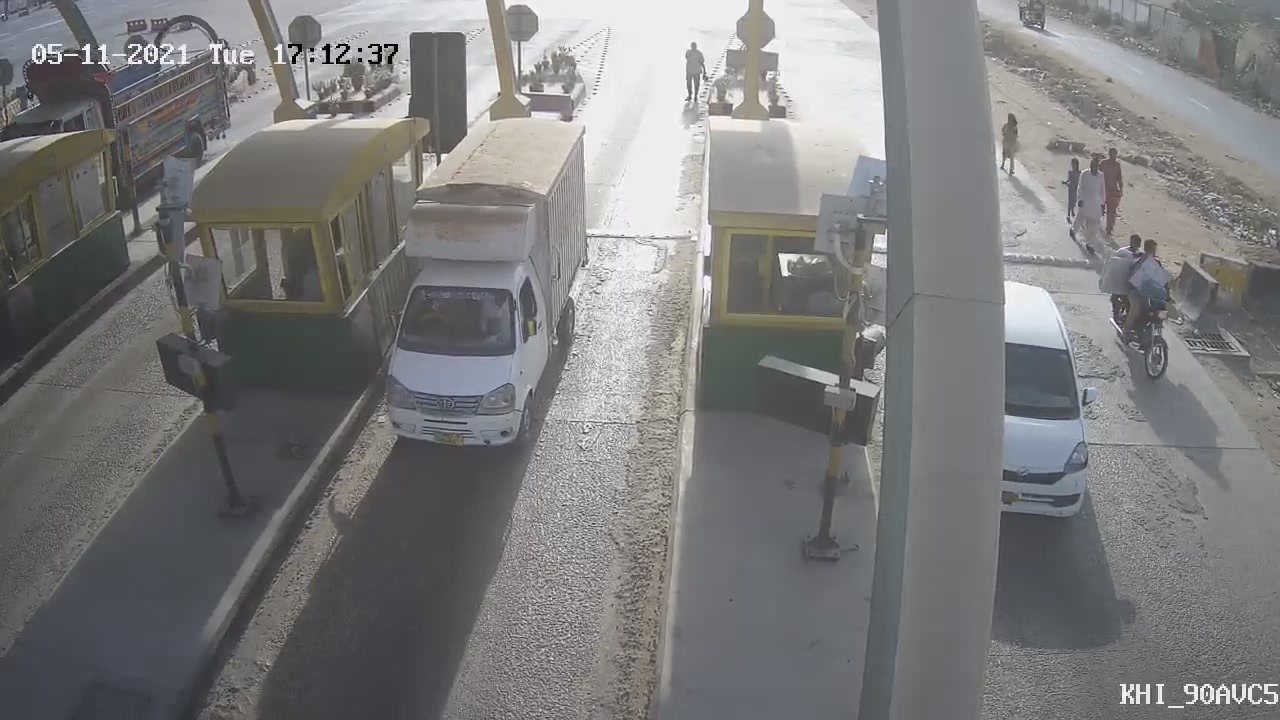F2: (359, 101, 618, 481)
